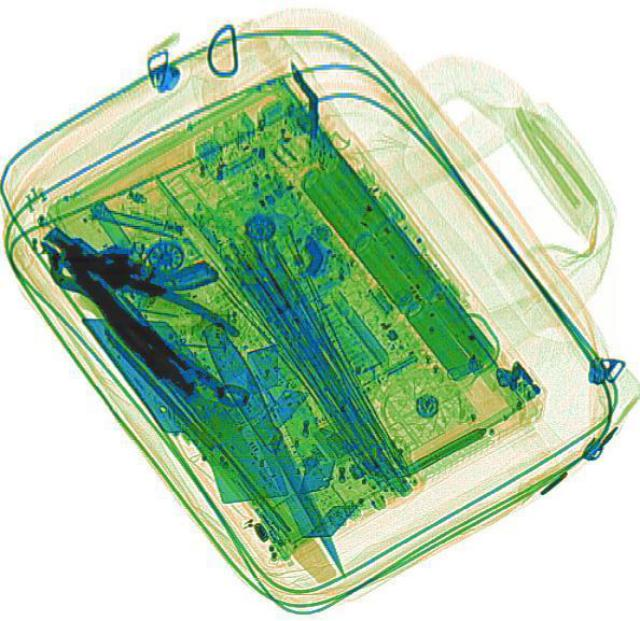Gun: (36, 177, 222, 330)
Knife: (191, 315, 363, 590)
Pliers: (29, 214, 248, 395)
Wrench: (39, 240, 255, 419)
